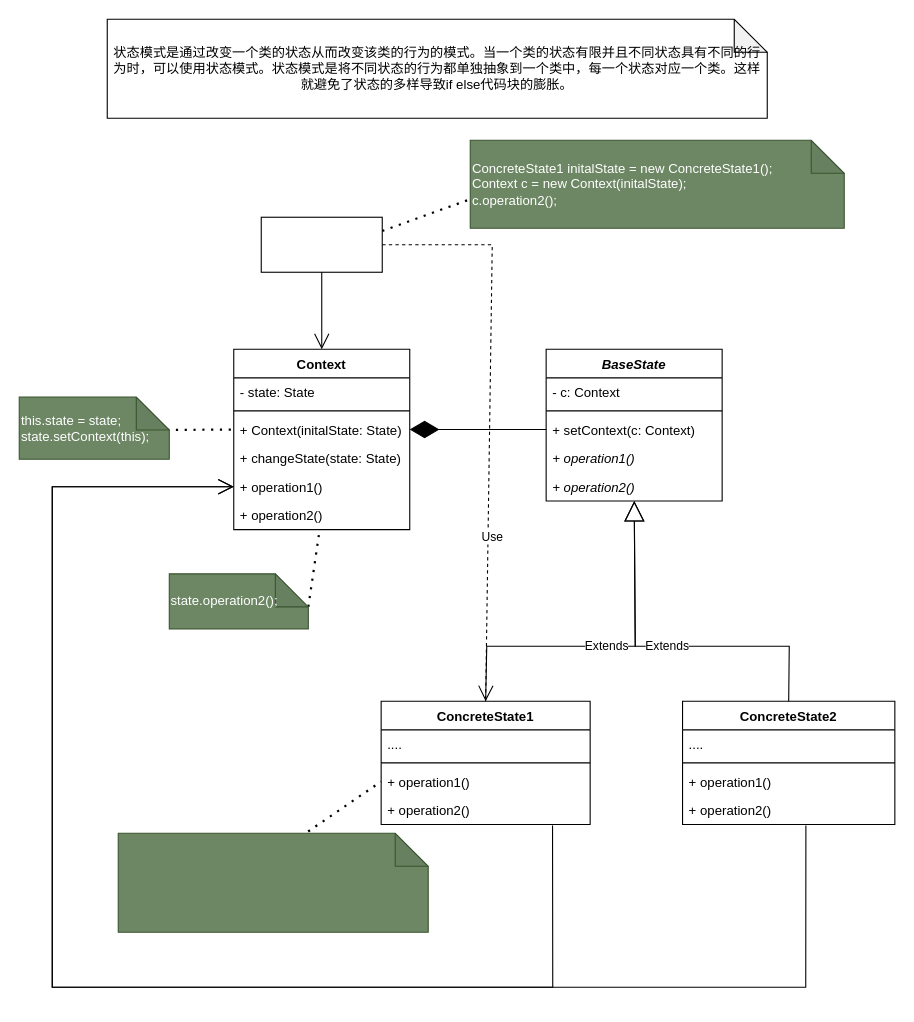
Some shapes in this 914 by 1022 pixel diagram are drawn without their labels. Each missing label, with the centre of its shape:
"// 相关逻辑操作 ...... entity.changeState(new ConcreteState2(entity))" belongs at [272,882].
"Client" belongs at [321,244].
